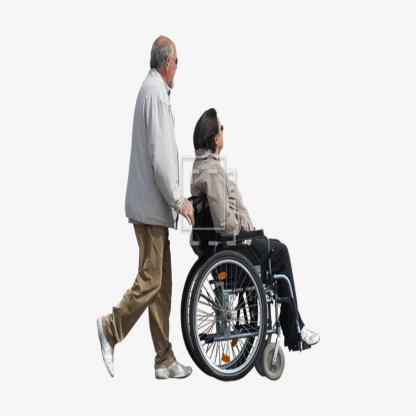wheelchair: (181, 98, 321, 382)
